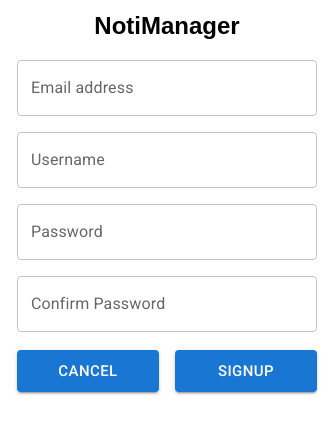
Test: SignUp › should handle signup failure: server error
This screenshot has width=335, height=446.
In the field with test id "email-input": {"x": 167, "y": 88} x1=17 y1=60 x2=317 y2=116, type "test@test.com"
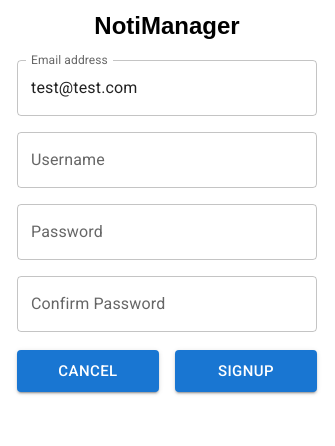
In the field with test id "username-input": {"x": 167, "y": 160} x1=17 y1=132 x2=317 y2=188, type "username"
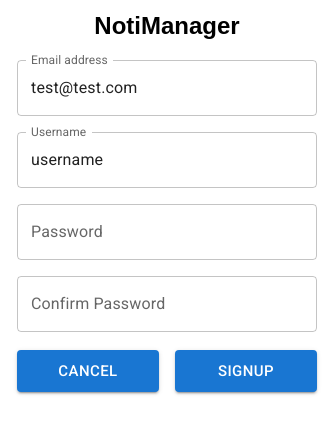
In the password field with test id "password-input": {"x": 167, "y": 232} x1=17 y1=204 x2=317 y2=260, type "password"
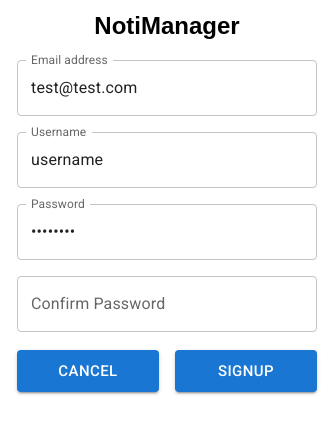
In the password field with test id "password-confirm": {"x": 167, "y": 304} x1=17 y1=276 x2=317 y2=332, type "password"
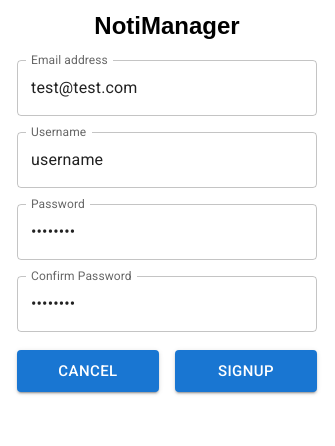
Click the button with test id "signup-button": {"x": 246, "y": 371} x1=175 y1=350 x2=317 y2=392
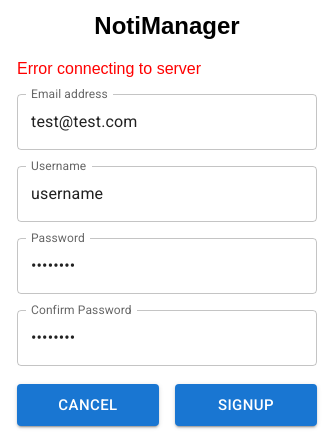
Expected: the text "Error connecting to server" is shown, x1=17 y1=60 x2=201 y2=77
